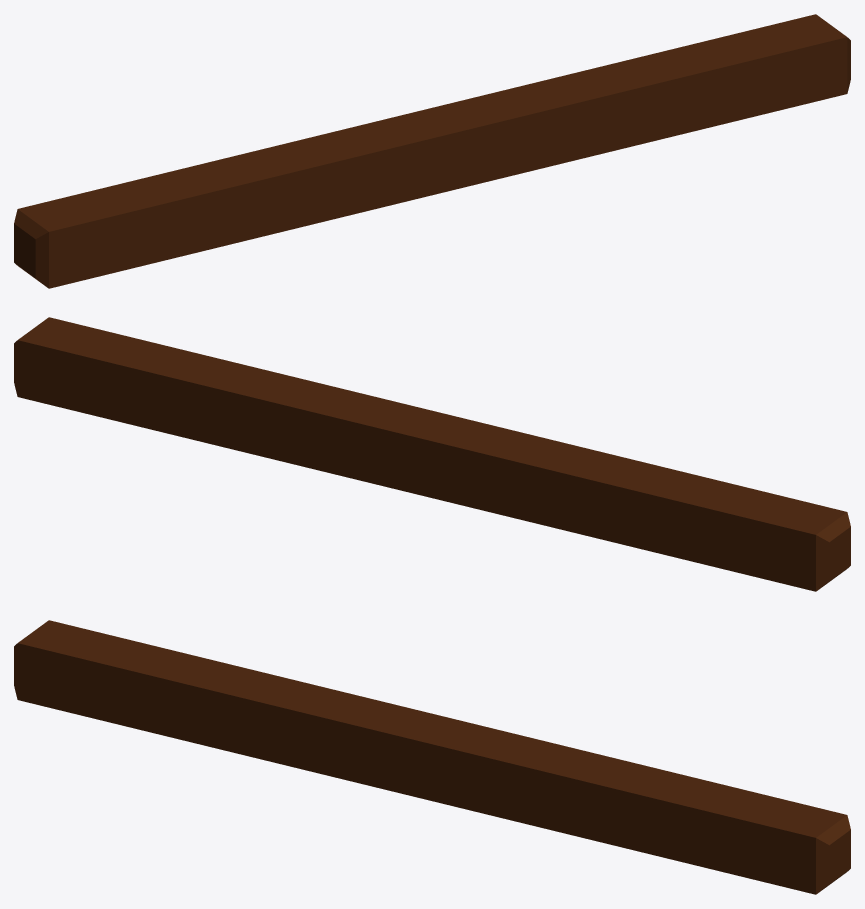
The model's file is MBS_City_Balken01.fbx.
3 renders of one model, top to bottom at view 1: azimuth 30°, elevation 25°; view 2: azimuth 150°, elevation 25°; view 3: azimuth 330°, elevation 25°, orthographic.
Parts seen in each view (by area): view 1: Cube.398; view 2: Cube.398; view 3: Cube.398.
Part boxes in pixels (bbox=[...]): Cube.398: bbox=[14, 14, 850, 288]; Cube.398: bbox=[14, 317, 850, 591]; Cube.398: bbox=[14, 620, 850, 894].
Size of the model in its own units: 1200 by 80 by 80.
